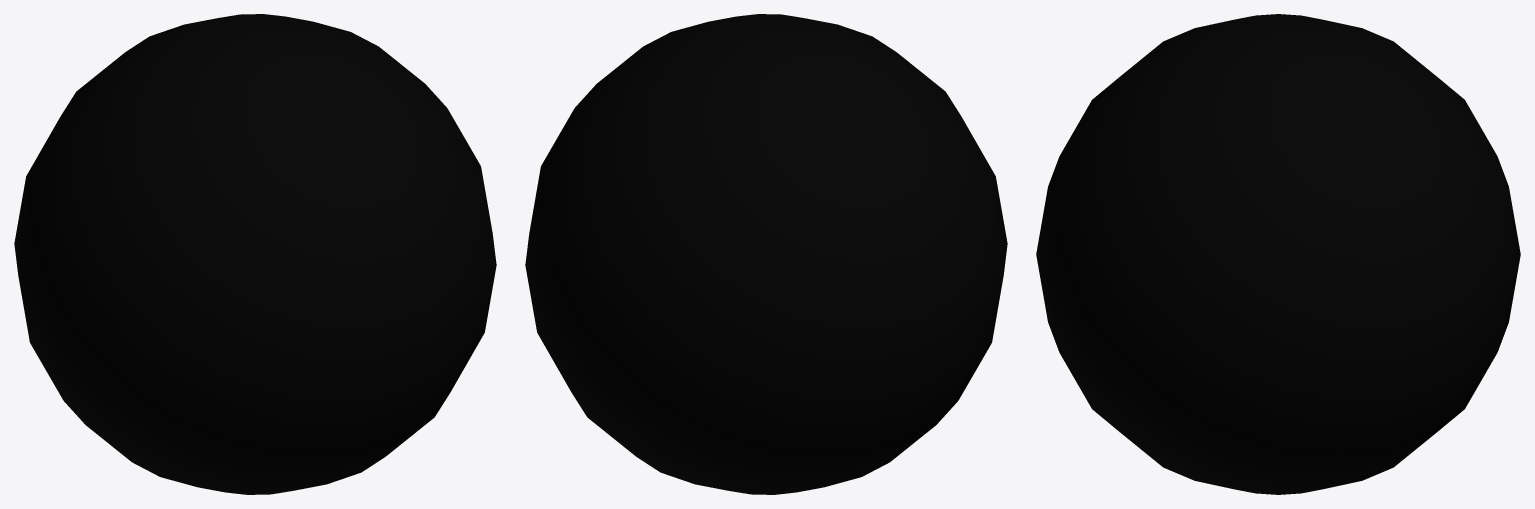
File: cursor.dae
3 renders of one model, left to right at view 1: azimuth 30°, elevation 25°; view 2: azimuth 150°, elevation 25°; view 3: azimuth 270°, elevation 25°, orthographic.
Parts seen in each view (by area): view 1: Sphere; view 2: Sphere; view 3: Sphere.
Boxes of the visible parts, bbox=[...] form: Sphere: bbox=[14, 14, 496, 494]; Sphere: bbox=[525, 14, 1007, 494]; Sphere: bbox=[1036, 14, 1520, 494].
Size of the model in its own units: 2 by 2 by 2.
Materials: 1 (1 with a texture image).
